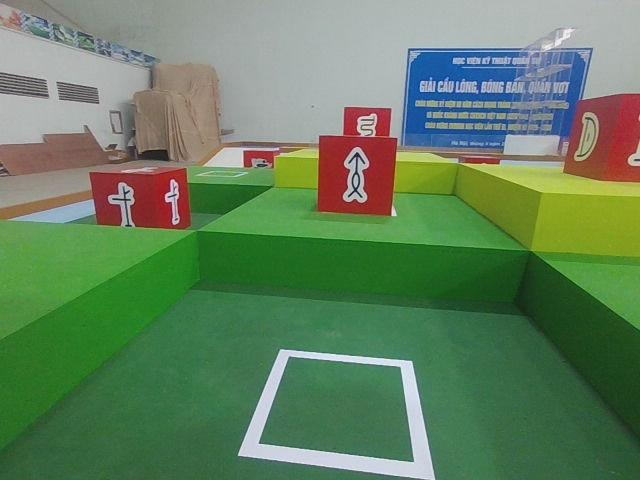R2 Fake: (341, 103, 394, 150)
R2 Real: (88, 161, 192, 241), (312, 131, 400, 220), (563, 90, 640, 189)
